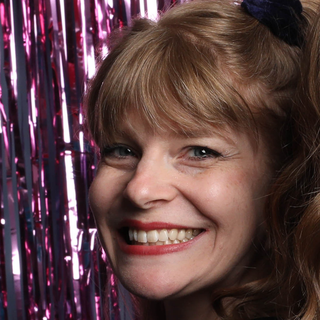eye: (176, 140, 226, 165), (101, 140, 140, 164)
